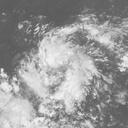cyclone: (32, 34, 94, 97)
